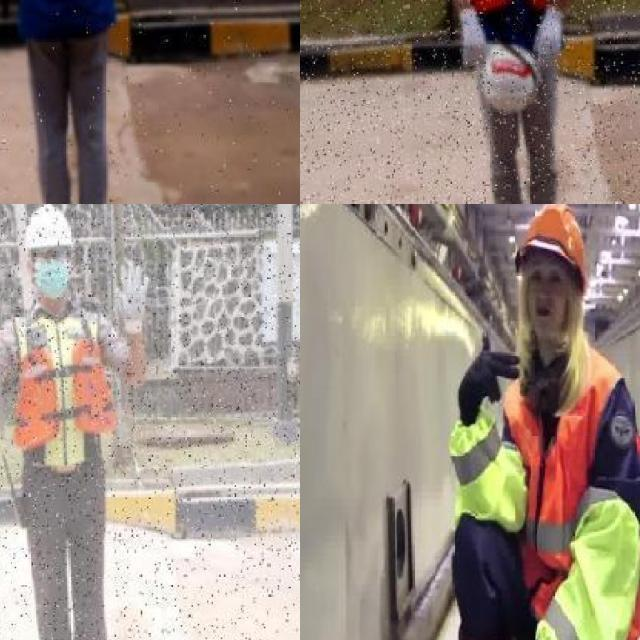apron: (457, 328, 520, 424), (114, 260, 150, 337), (535, 8, 563, 70), (460, 8, 486, 70)
